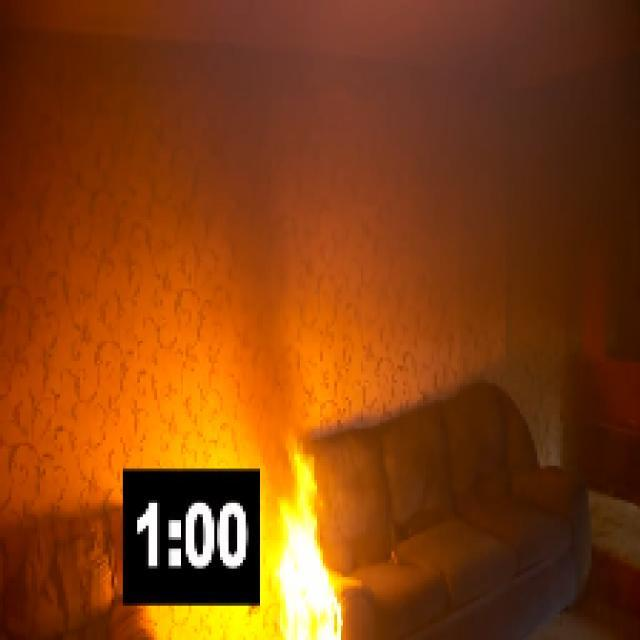Fire: (268, 457, 343, 634)
Smoke: (237, 17, 306, 437)
